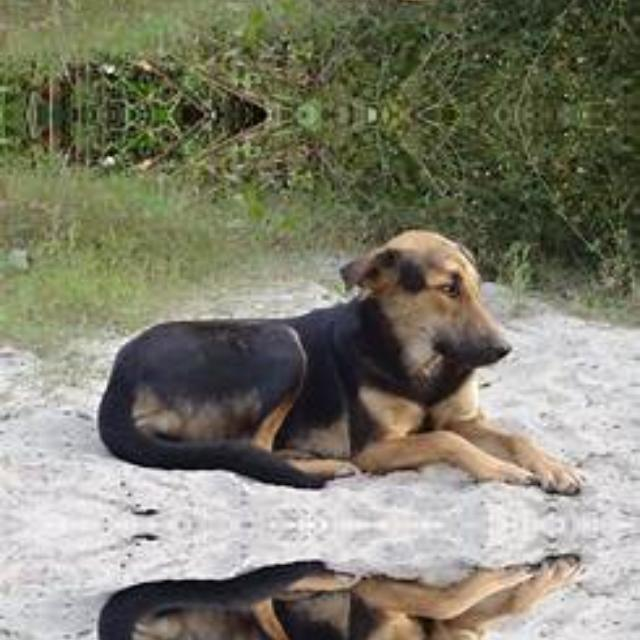dog: (88, 236, 600, 524), (88, 524, 600, 640)
